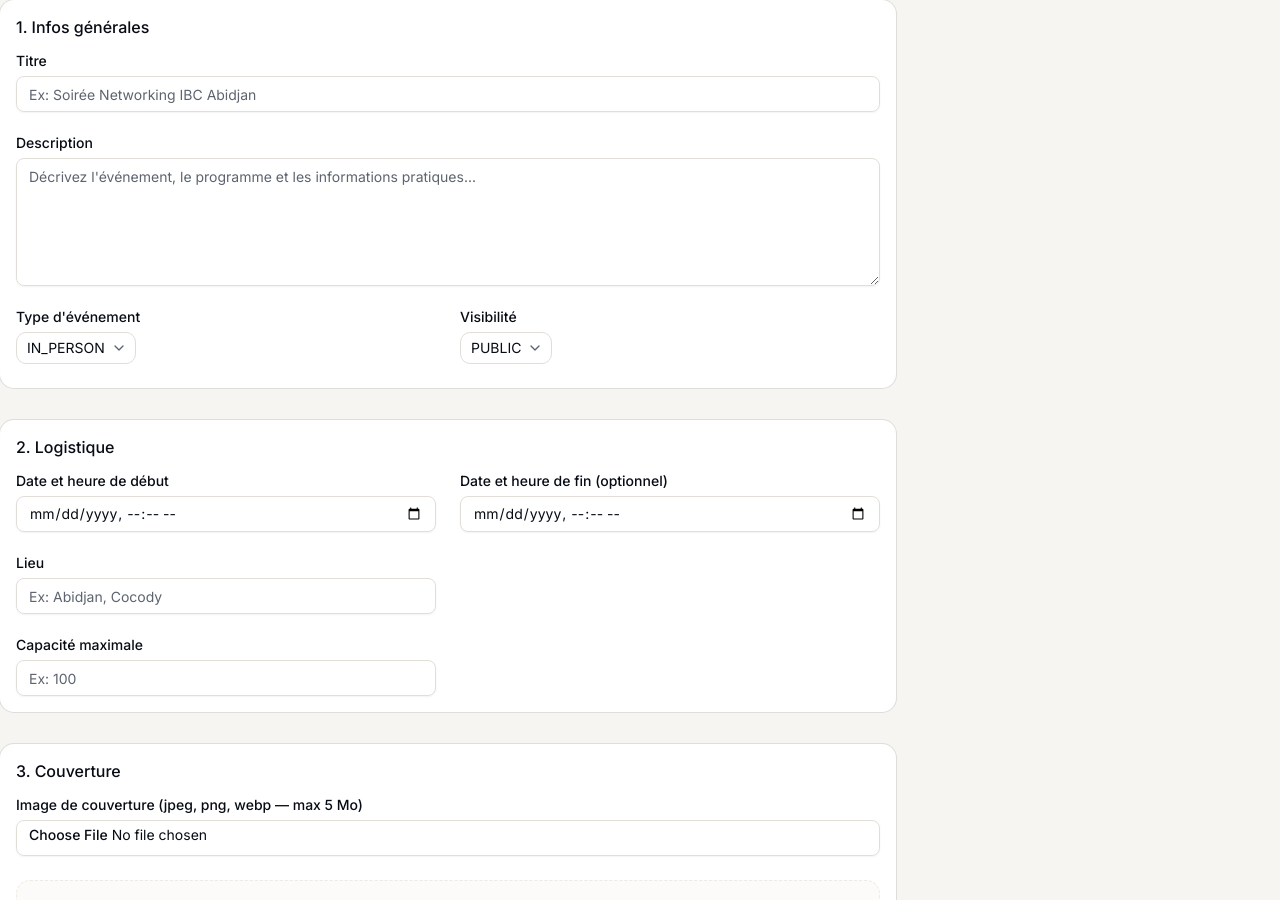
Test: EventForm Component › shows validation errors for invalid inputs
Type "ab" into the field with test id "event-title-input". click: (448, 94)
box: [16,76,880,112]
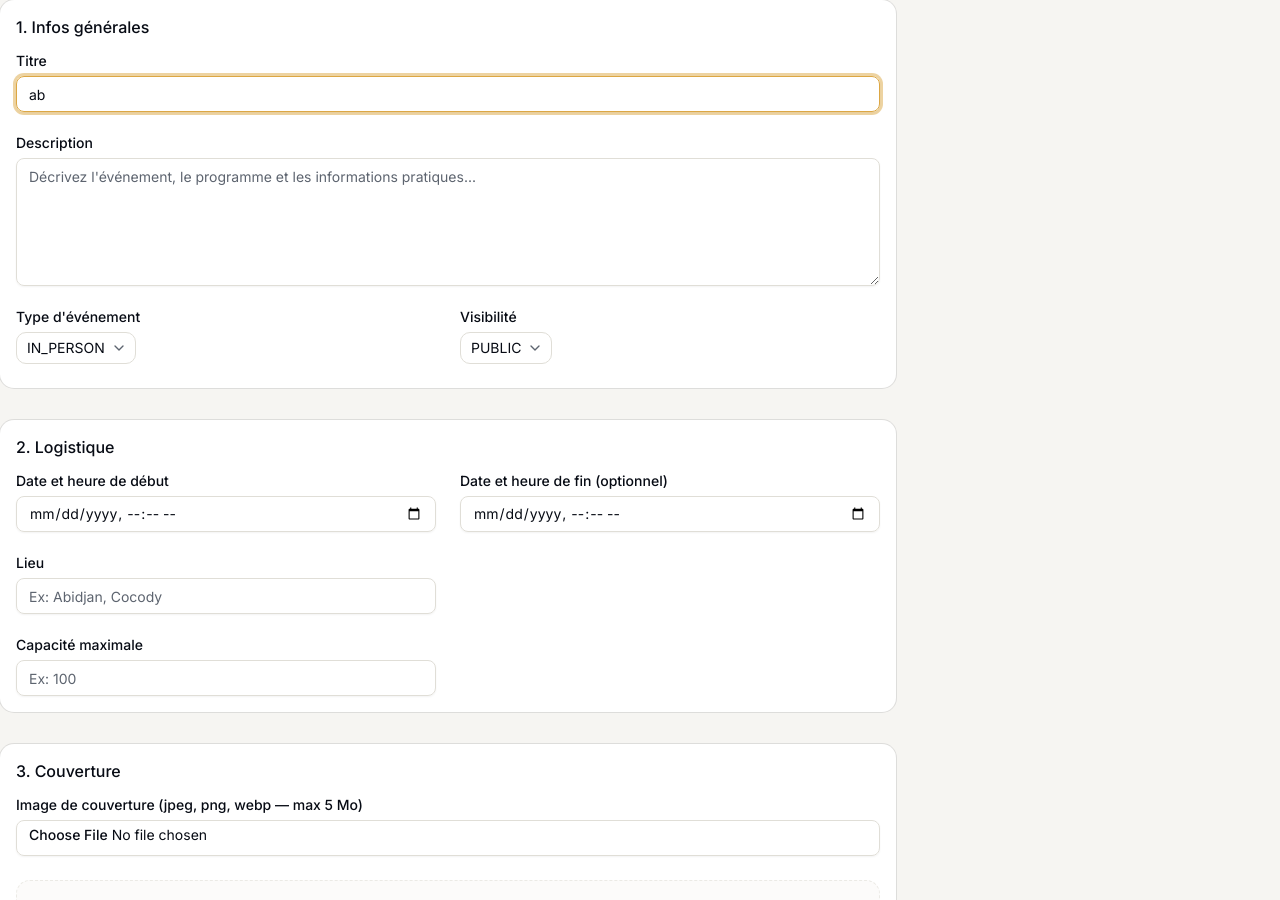
Type "short" into the text box with test id "event-description-input". click: (448, 222)
box: [16,158,880,286]
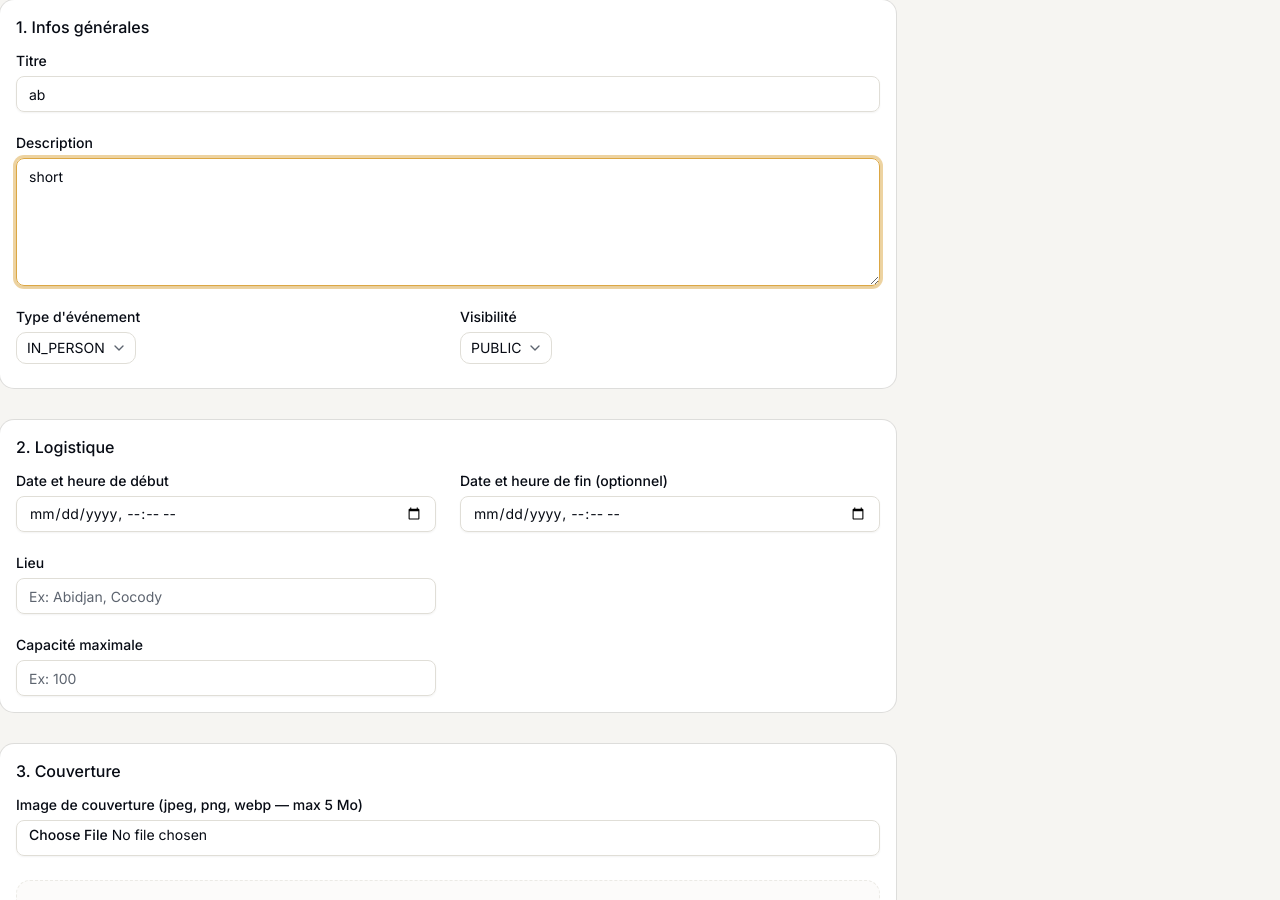
Clear the field with test id "event-location-input". click: (226, 596)
box: [16,578,436,614]
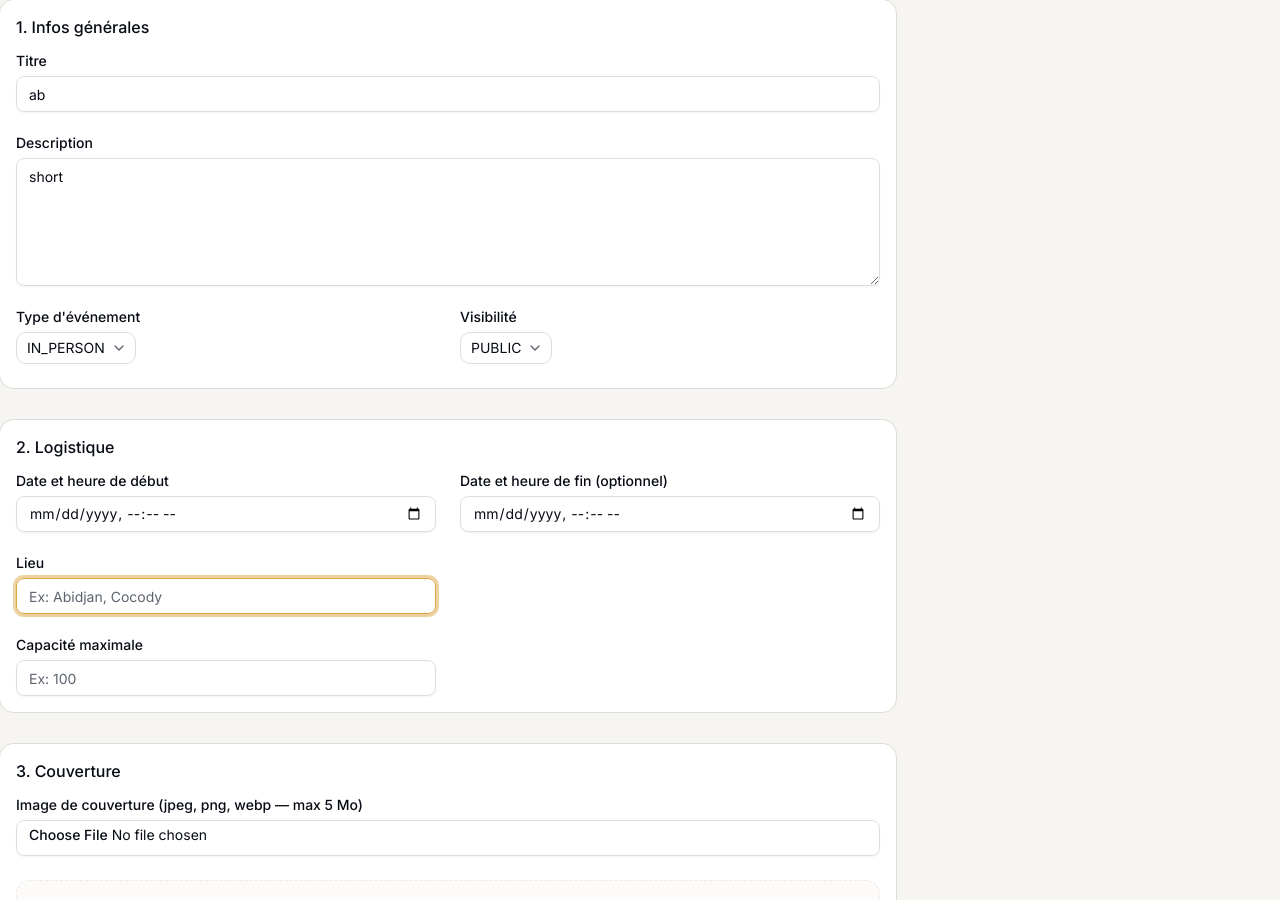
Type "bad-date" into the field with test id "event-start-date-input". click: (226, 514)
box: [16,496,436,532]
(page scrolled)
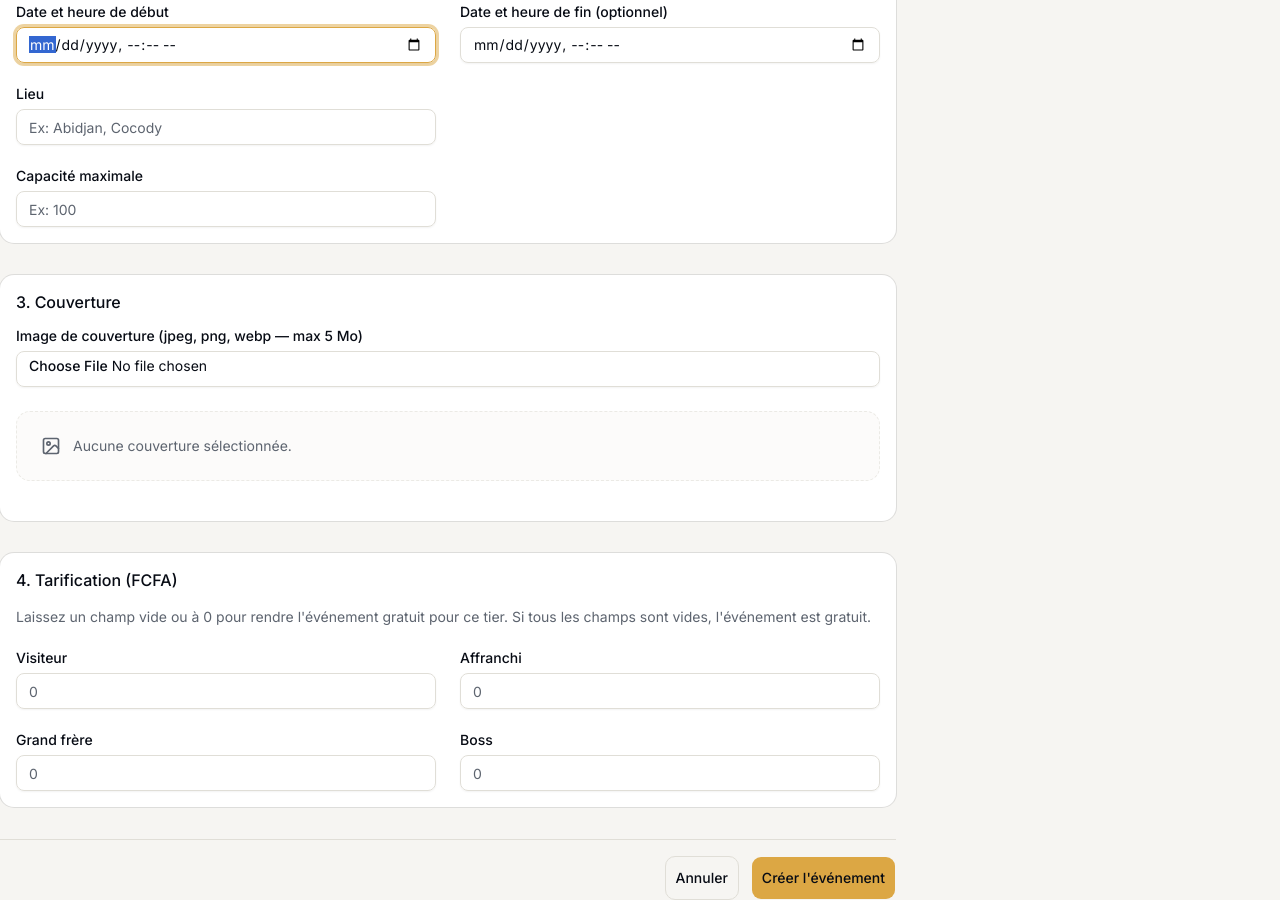
Click the button with test id "event-submit-button". click: (823, 878)
box: [751,856,896,899]
(page scrolled)
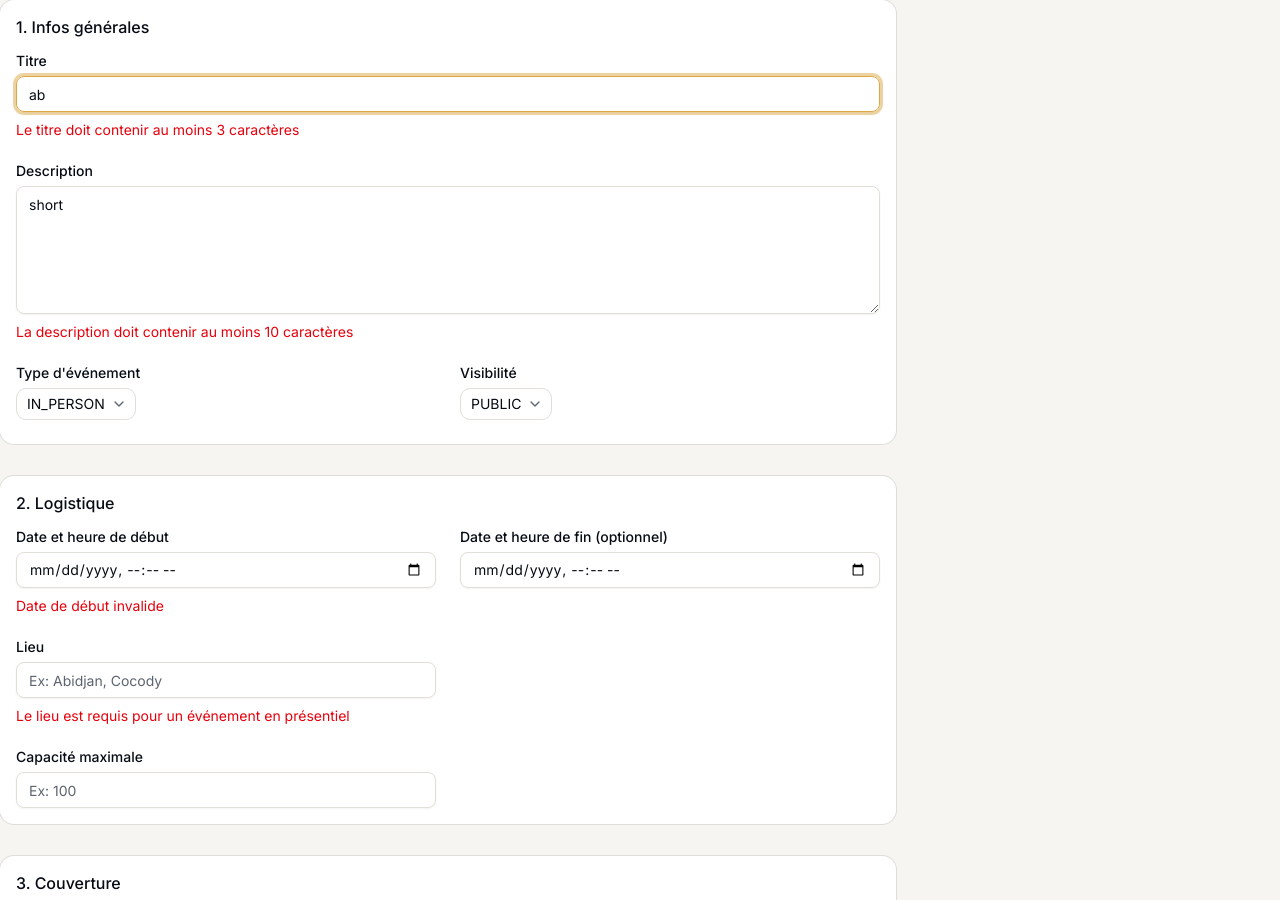
Result: the text "Le titre doit contenir au moins 3 caractères" is shown at [16,121,299,138]
Result: the text "La description doit contenir au moins 10 caractères" is shown at [16,323,353,340]
Result: the text "Le lieu est requis pour un événement en présentiel" is shown at [16,707,350,724]
